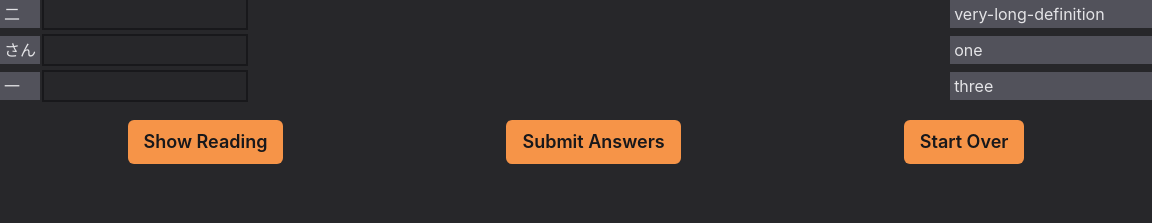
Scenario: VocabMatchQuiz › toggles the reading hint next to the kanji label via Show Reading, without affecting reading-only rows
Check: the text "いち" is not shown
Click the button "Show Reading" at (206, 142), box top-left (128, 120), bottom-right (284, 164)
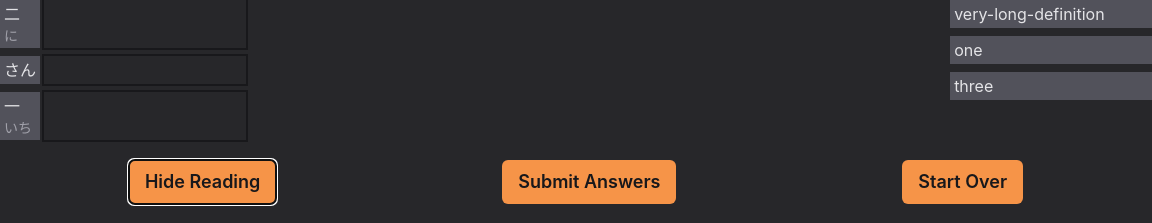
Check: the text "さん" is shown once, box top-left (0, 56), bottom-right (40, 84)
Check: the text "いち" is shown, box top-left (4, 118), bottom-right (36, 138)
Click the button "Hide Reading" at (203, 182), box top-left (129, 160), bottom-right (276, 204)
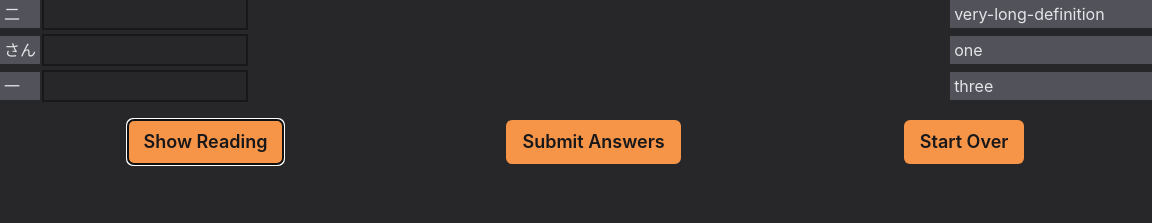
Check: the text "いち" is gone
